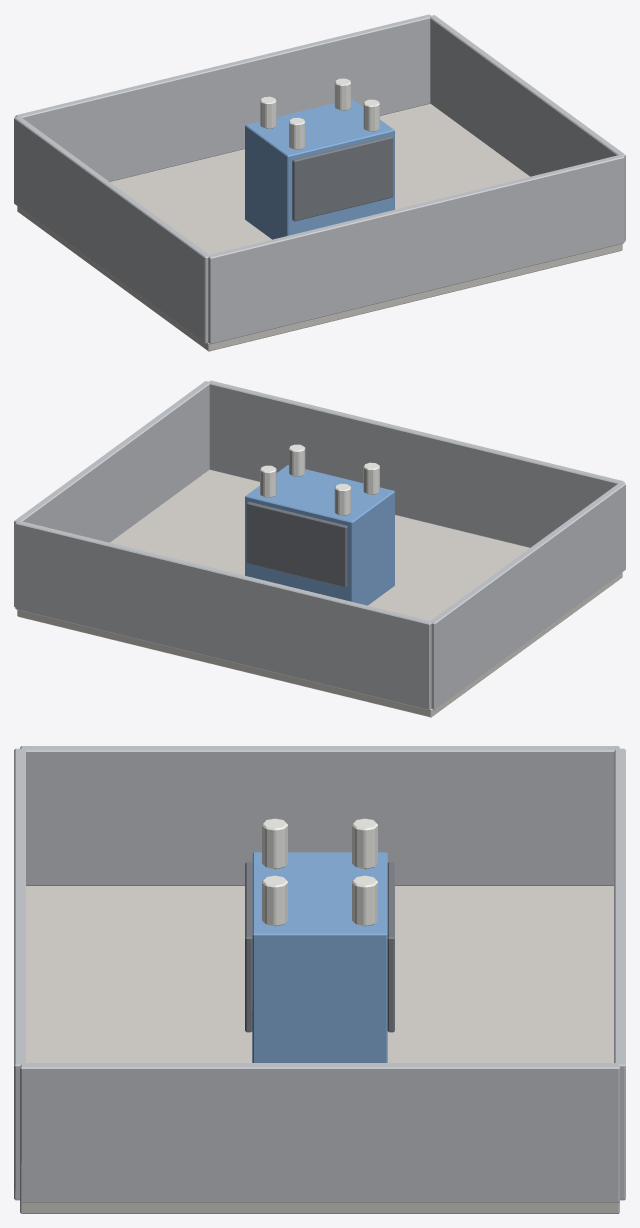
Rendered from 构筑_变电站_01.fbx.
The picture shows the model from 3 angles, top to bottom: view 1: azimuth 30°, elevation 25°; view 2: azimuth 150°, elevation 25°; view 3: azimuth 270°, elevation 25°; orthographic projection. The views are drawn at different scales.
Visible parts, largest first — view 1: 围栏, 场地, 变压器, 散热片.001, 绝缘子.001; view 2: 围栏, 场地, 变压器, 散热片.001, 绝缘子.001; view 3: 围栏, 场地, 变压器, 绝缘子.001, 散热片.001.
Part boxes in pixels (left/top/right/bottom): 围栏: left=14, top=14, right=625, bottom=344; 场地: left=17, top=103, right=622, bottom=351; 变压器: left=245, top=99, right=394, bottom=239; 散热片.001: left=292, top=136, right=393, bottom=221; 绝缘子.001: left=260, top=78, right=379, bottom=149; 围栏: left=14, top=380, right=625, bottom=710; 场地: left=17, top=469, right=622, bottom=717; 变压器: left=245, top=465, right=394, bottom=605; 散热片.001: left=246, top=502, right=347, bottom=587; 绝缘子.001: left=260, top=444, right=379, bottom=515; 围栏: left=14, top=746, right=625, bottom=1202; 场地: left=20, top=886, right=619, bottom=1213; 变压器: left=252, top=852, right=387, bottom=1062; 绝缘子.001: left=262, top=818, right=377, bottom=926; 散热片.001: left=245, top=862, right=394, bottom=1032.
Size of the model in its own units: 1016 by 300 by 816.
